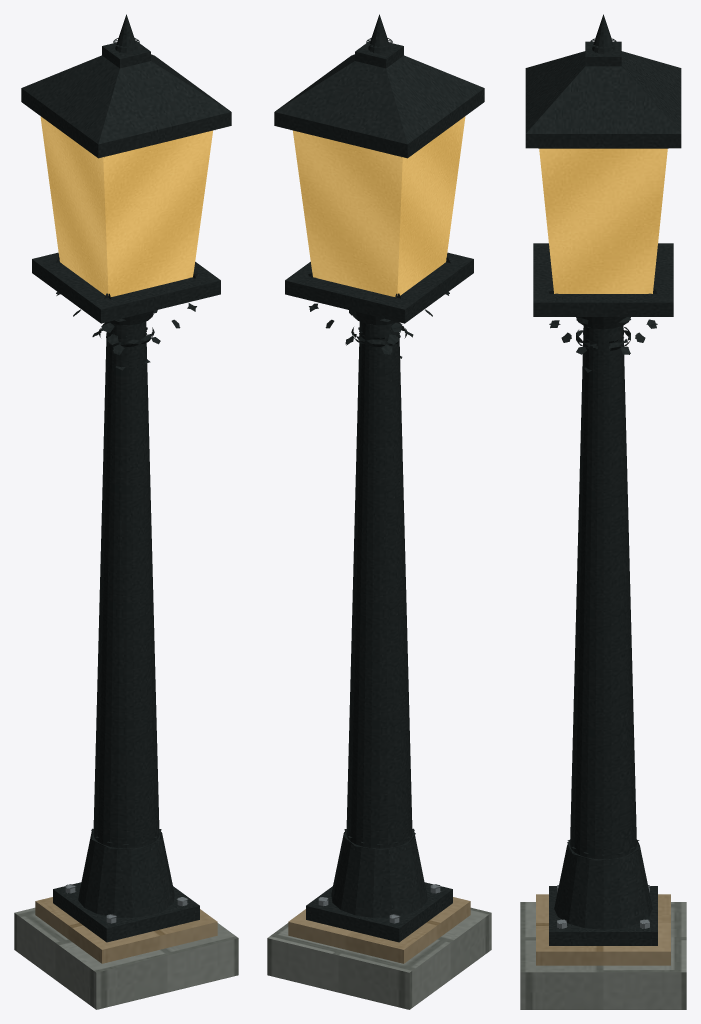
3 renders of one model, left to right at view 1: azimuth 30°, elevation 25°; view 2: azimuth 150°, elevation 25°; view 3: azimuth 270°, elevation 25°, orthographic.
Visible parts, largest first — view 1: street-lamp; view 2: street-lamp; view 3: street-lamp.
Part boxes in pixels (x1,y1,x2,y2): street-lamp: (14,14,238,1009); street-lamp: (267,14,491,1009); street-lamp: (520,14,686,1009).
Size of the model in its own units: 0.64 by 4.08 by 0.64.
5 materials, 5 textured.
